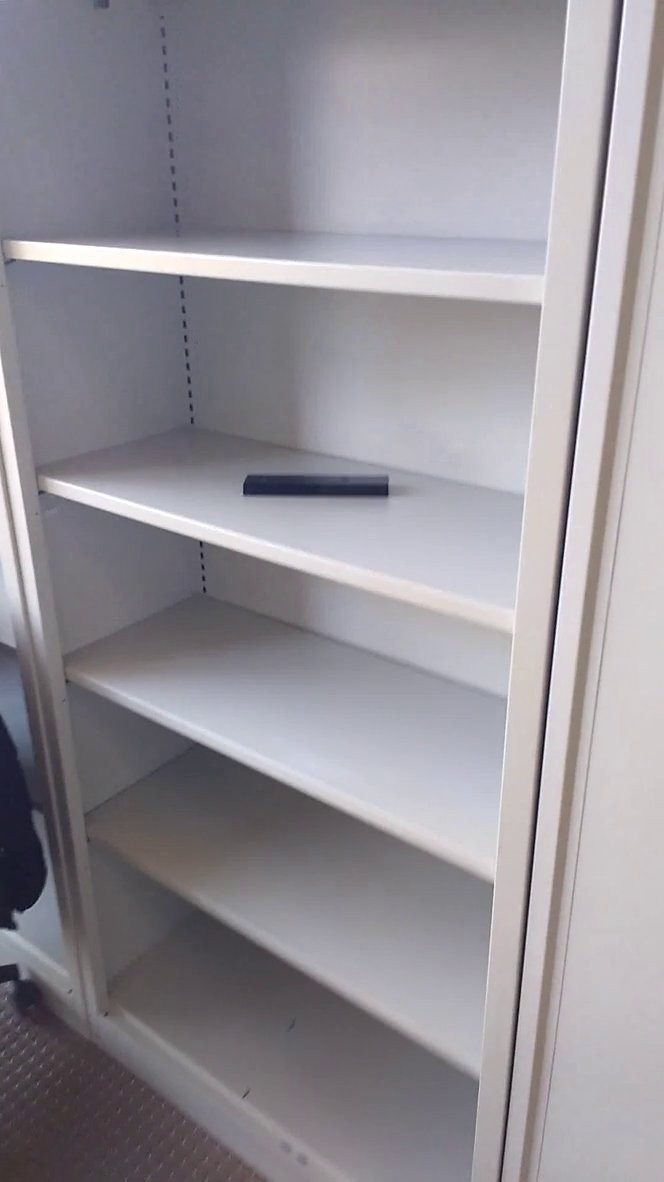remote: (230, 461, 399, 511)
